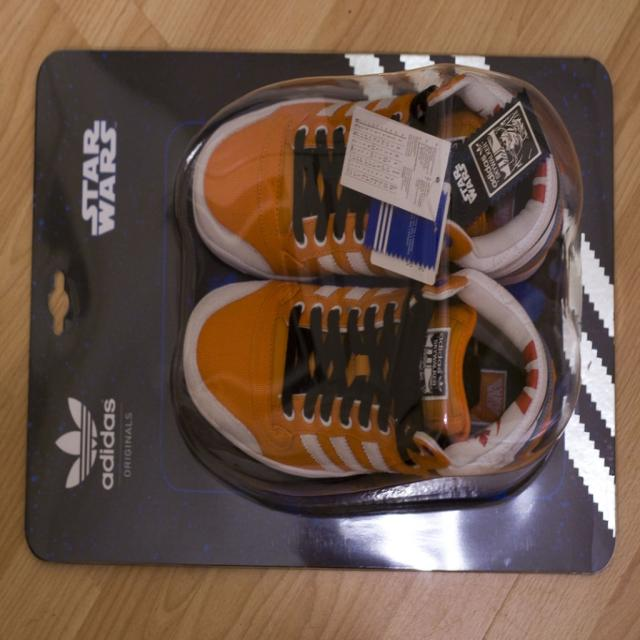adidas: (50, 390, 120, 499)
